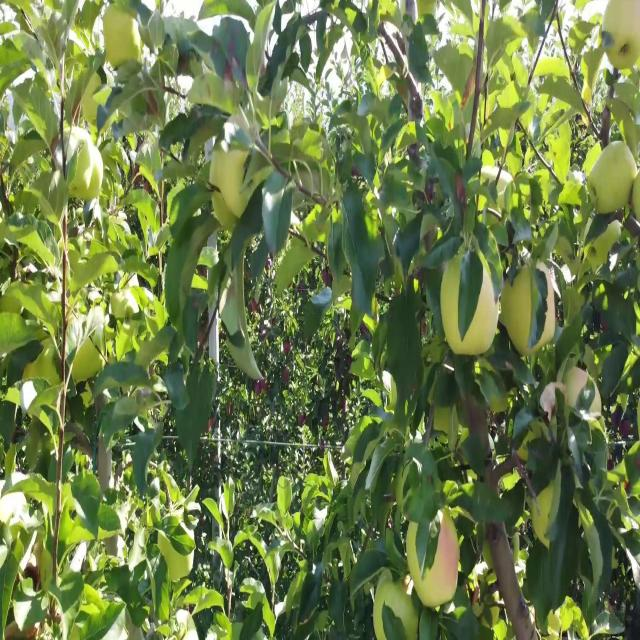apple: (500, 270, 558, 359), (412, 519, 461, 610), (440, 277, 492, 356), (504, 291, 556, 359), (592, 142, 637, 217), (600, 0, 640, 75), (104, 0, 145, 71), (64, 135, 104, 206), (464, 284, 499, 356), (212, 149, 248, 219), (548, 369, 589, 427), (68, 149, 104, 206), (72, 334, 105, 384), (212, 191, 243, 235), (456, 170, 484, 217), (544, 383, 567, 427), (564, 369, 589, 407), (92, 72, 112, 108), (72, 21, 93, 55), (456, 177, 471, 215), (364, 298, 378, 334)
